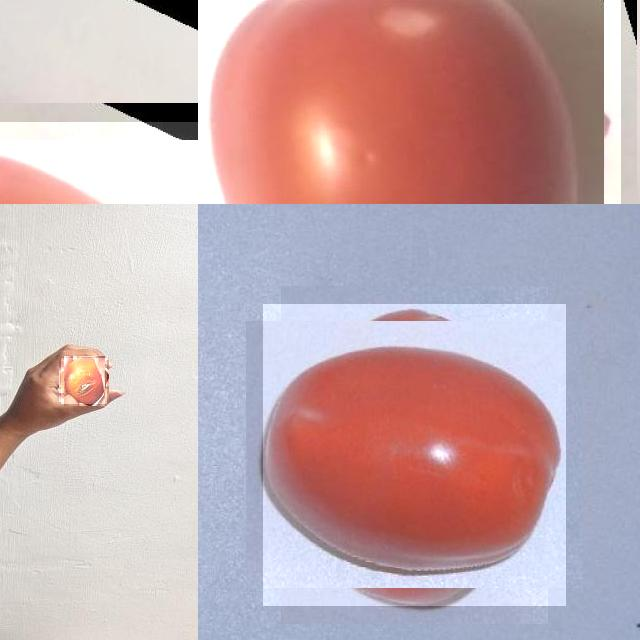1: (61, 358, 107, 404)
Fresh Tomato: (263, 304, 566, 606), (198, 0, 620, 204), (0, 121, 198, 204)
